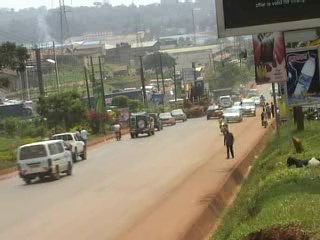Car: (127, 108, 156, 141), (220, 106, 243, 125), (146, 112, 164, 132), (204, 103, 224, 120), (169, 106, 187, 123), (156, 111, 174, 126), (229, 98, 243, 111), (247, 94, 260, 107)
Motorcycle: (111, 119, 125, 142), (218, 113, 229, 139), (212, 104, 224, 120), (257, 91, 266, 109)
